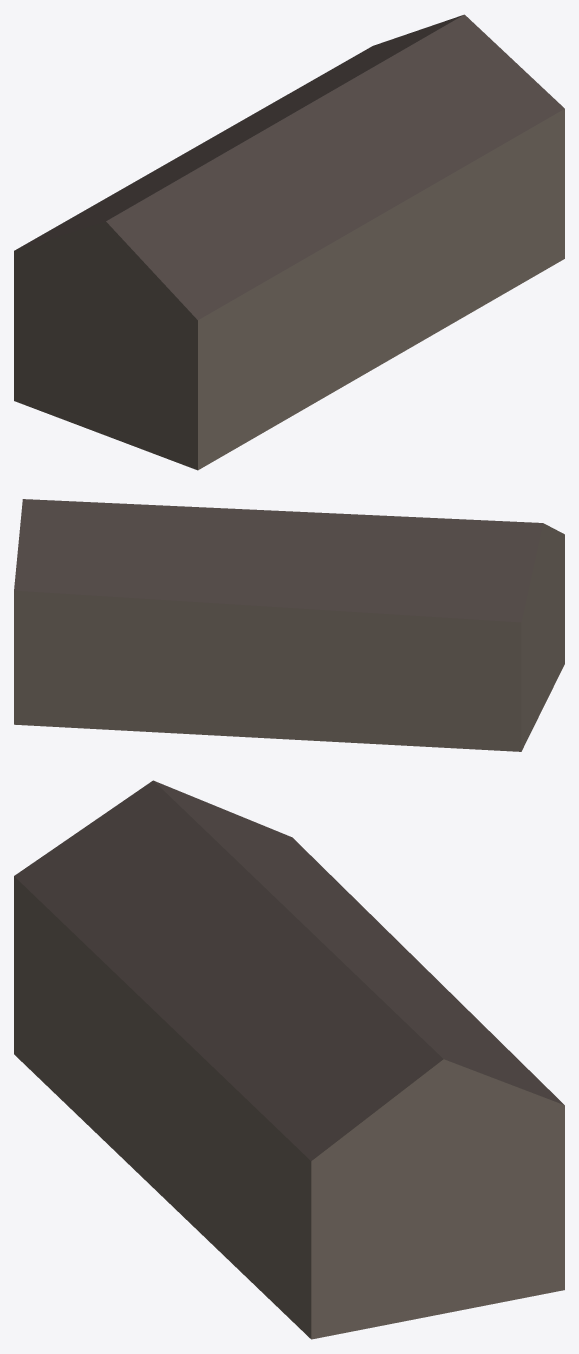
3 renders of one model, top to bottom at view 1: azimuth 30°, elevation 25°; view 2: azimuth 150°, elevation 25°; view 3: azimuth 270°, elevation 25°, orthographic. The views are drawn at different scales.
Parts seen in each view (by area): view 1: HP-w1513026708; view 2: HP-w1513026708; view 3: HP-w1513026708.
Boxes of the visible parts, box(x1,y1,x2,y2) form: HP-w1513026708: box(14, 14, 564, 470); HP-w1513026708: box(14, 499, 564, 751); HP-w1513026708: box(14, 780, 564, 1339).
Size of the model in its own units: 23.38 by 8.57 by 16.81.
